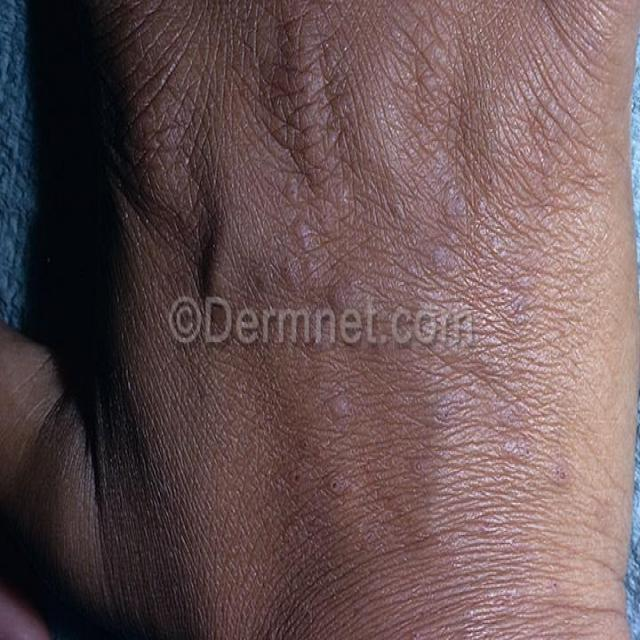Eczema: (274, 128, 572, 553)
